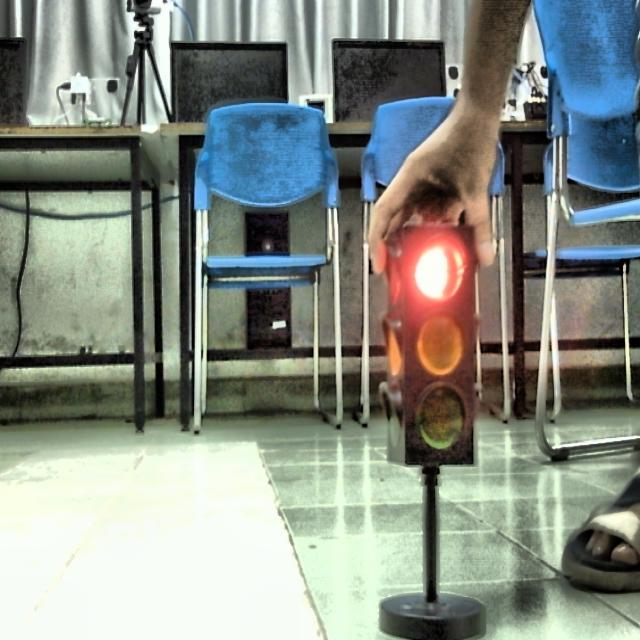red: (412, 233, 469, 304)
